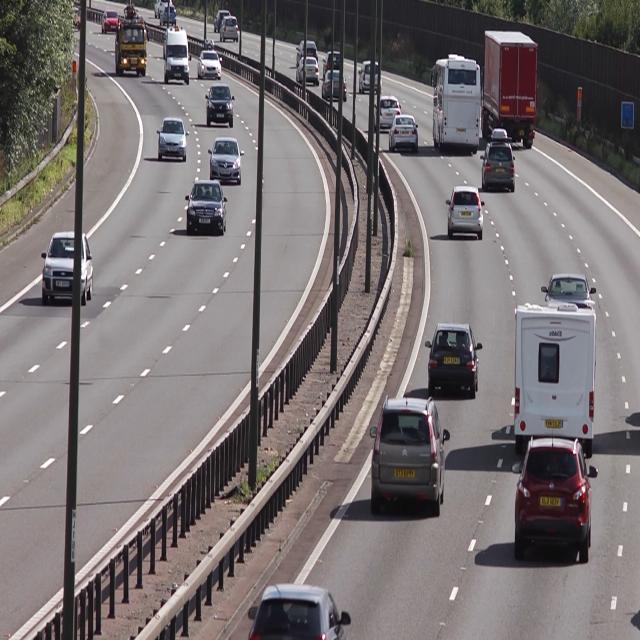Car: (510, 303, 598, 459), (367, 394, 449, 526), (511, 437, 598, 561), (480, 27, 537, 145), (242, 584, 348, 640), (431, 51, 481, 150), (424, 320, 478, 398), (40, 232, 90, 303), (114, 5, 148, 80), (480, 128, 518, 195), (183, 182, 226, 237), (444, 185, 482, 240), (207, 134, 244, 188), (162, 21, 191, 84), (157, 115, 187, 164), (202, 85, 235, 127), (389, 115, 419, 156), (374, 95, 401, 132), (198, 45, 221, 83), (295, 56, 319, 85), (218, 13, 238, 45)
